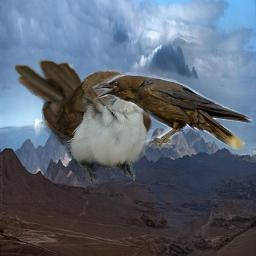Crow: (92, 71, 255, 150)
Cuckoo: (14, 59, 157, 187)
